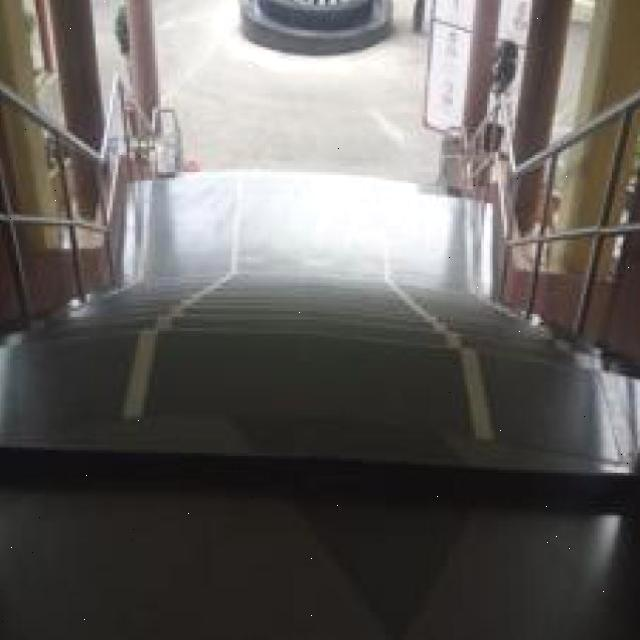stair: (147, 263, 473, 399)
